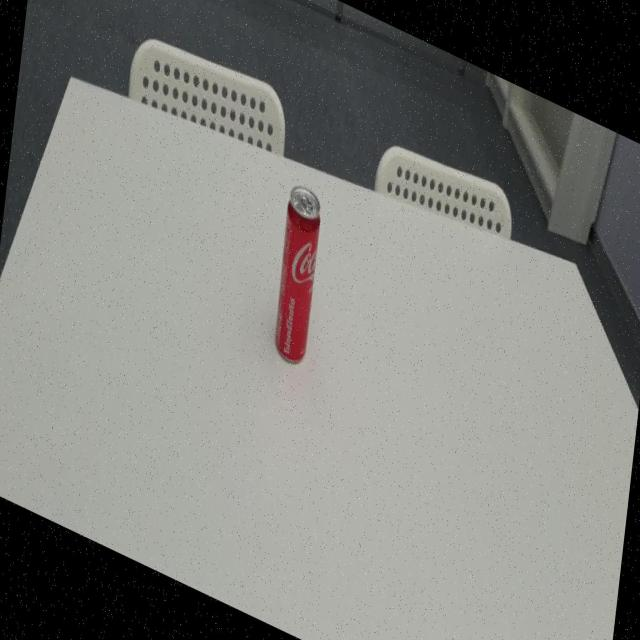coca-cola: (269, 176, 325, 374)
